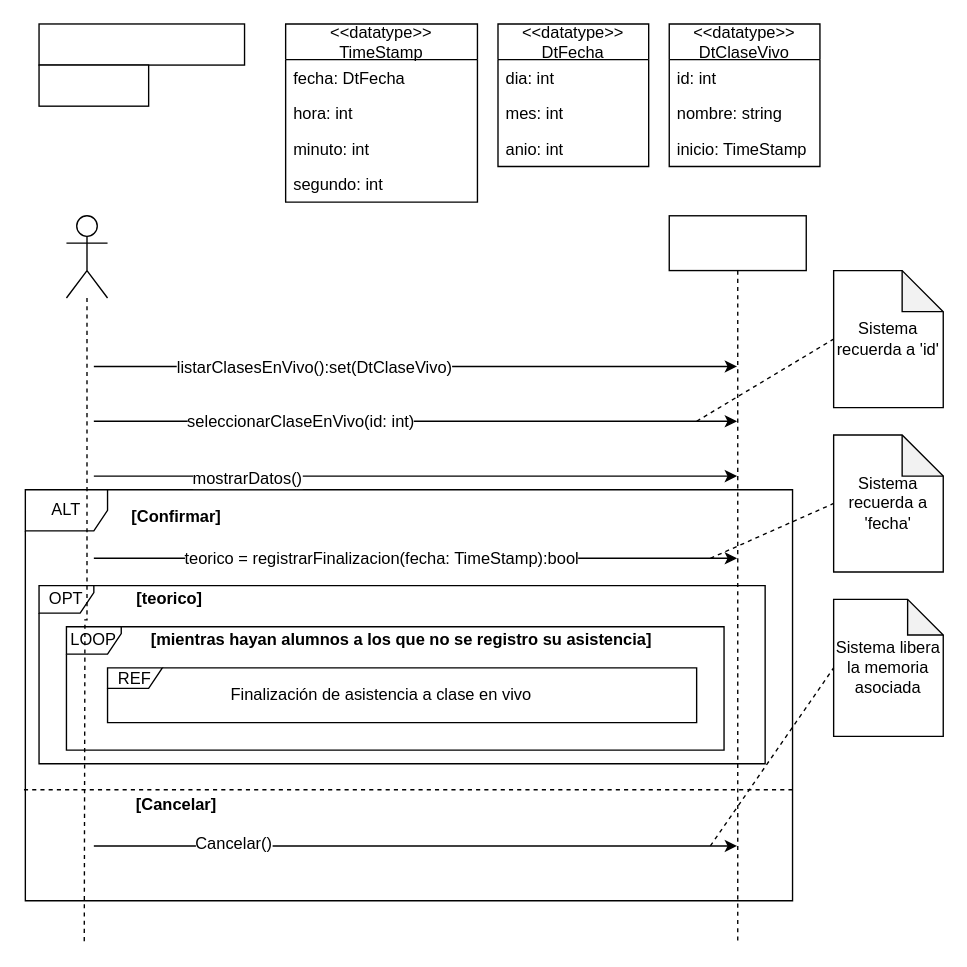
This 967x967 diagram has some shape labels left out. Each missing label, with the centre of its shape:
:Sistema: [737,578]
Con memoria: [93,85]
Docente: [86,256]
Finalización de clase: [141,44]
